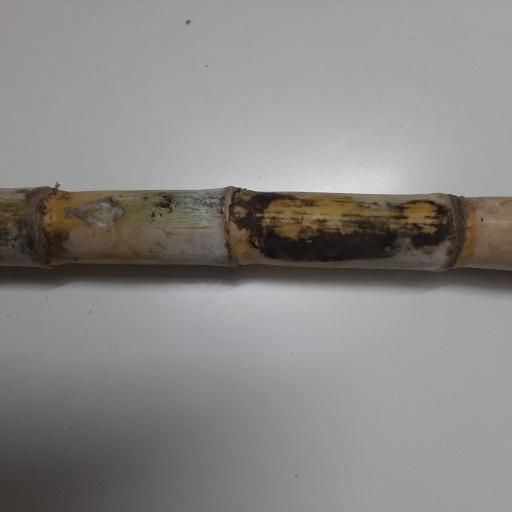Bud: (227, 204, 246, 222)
